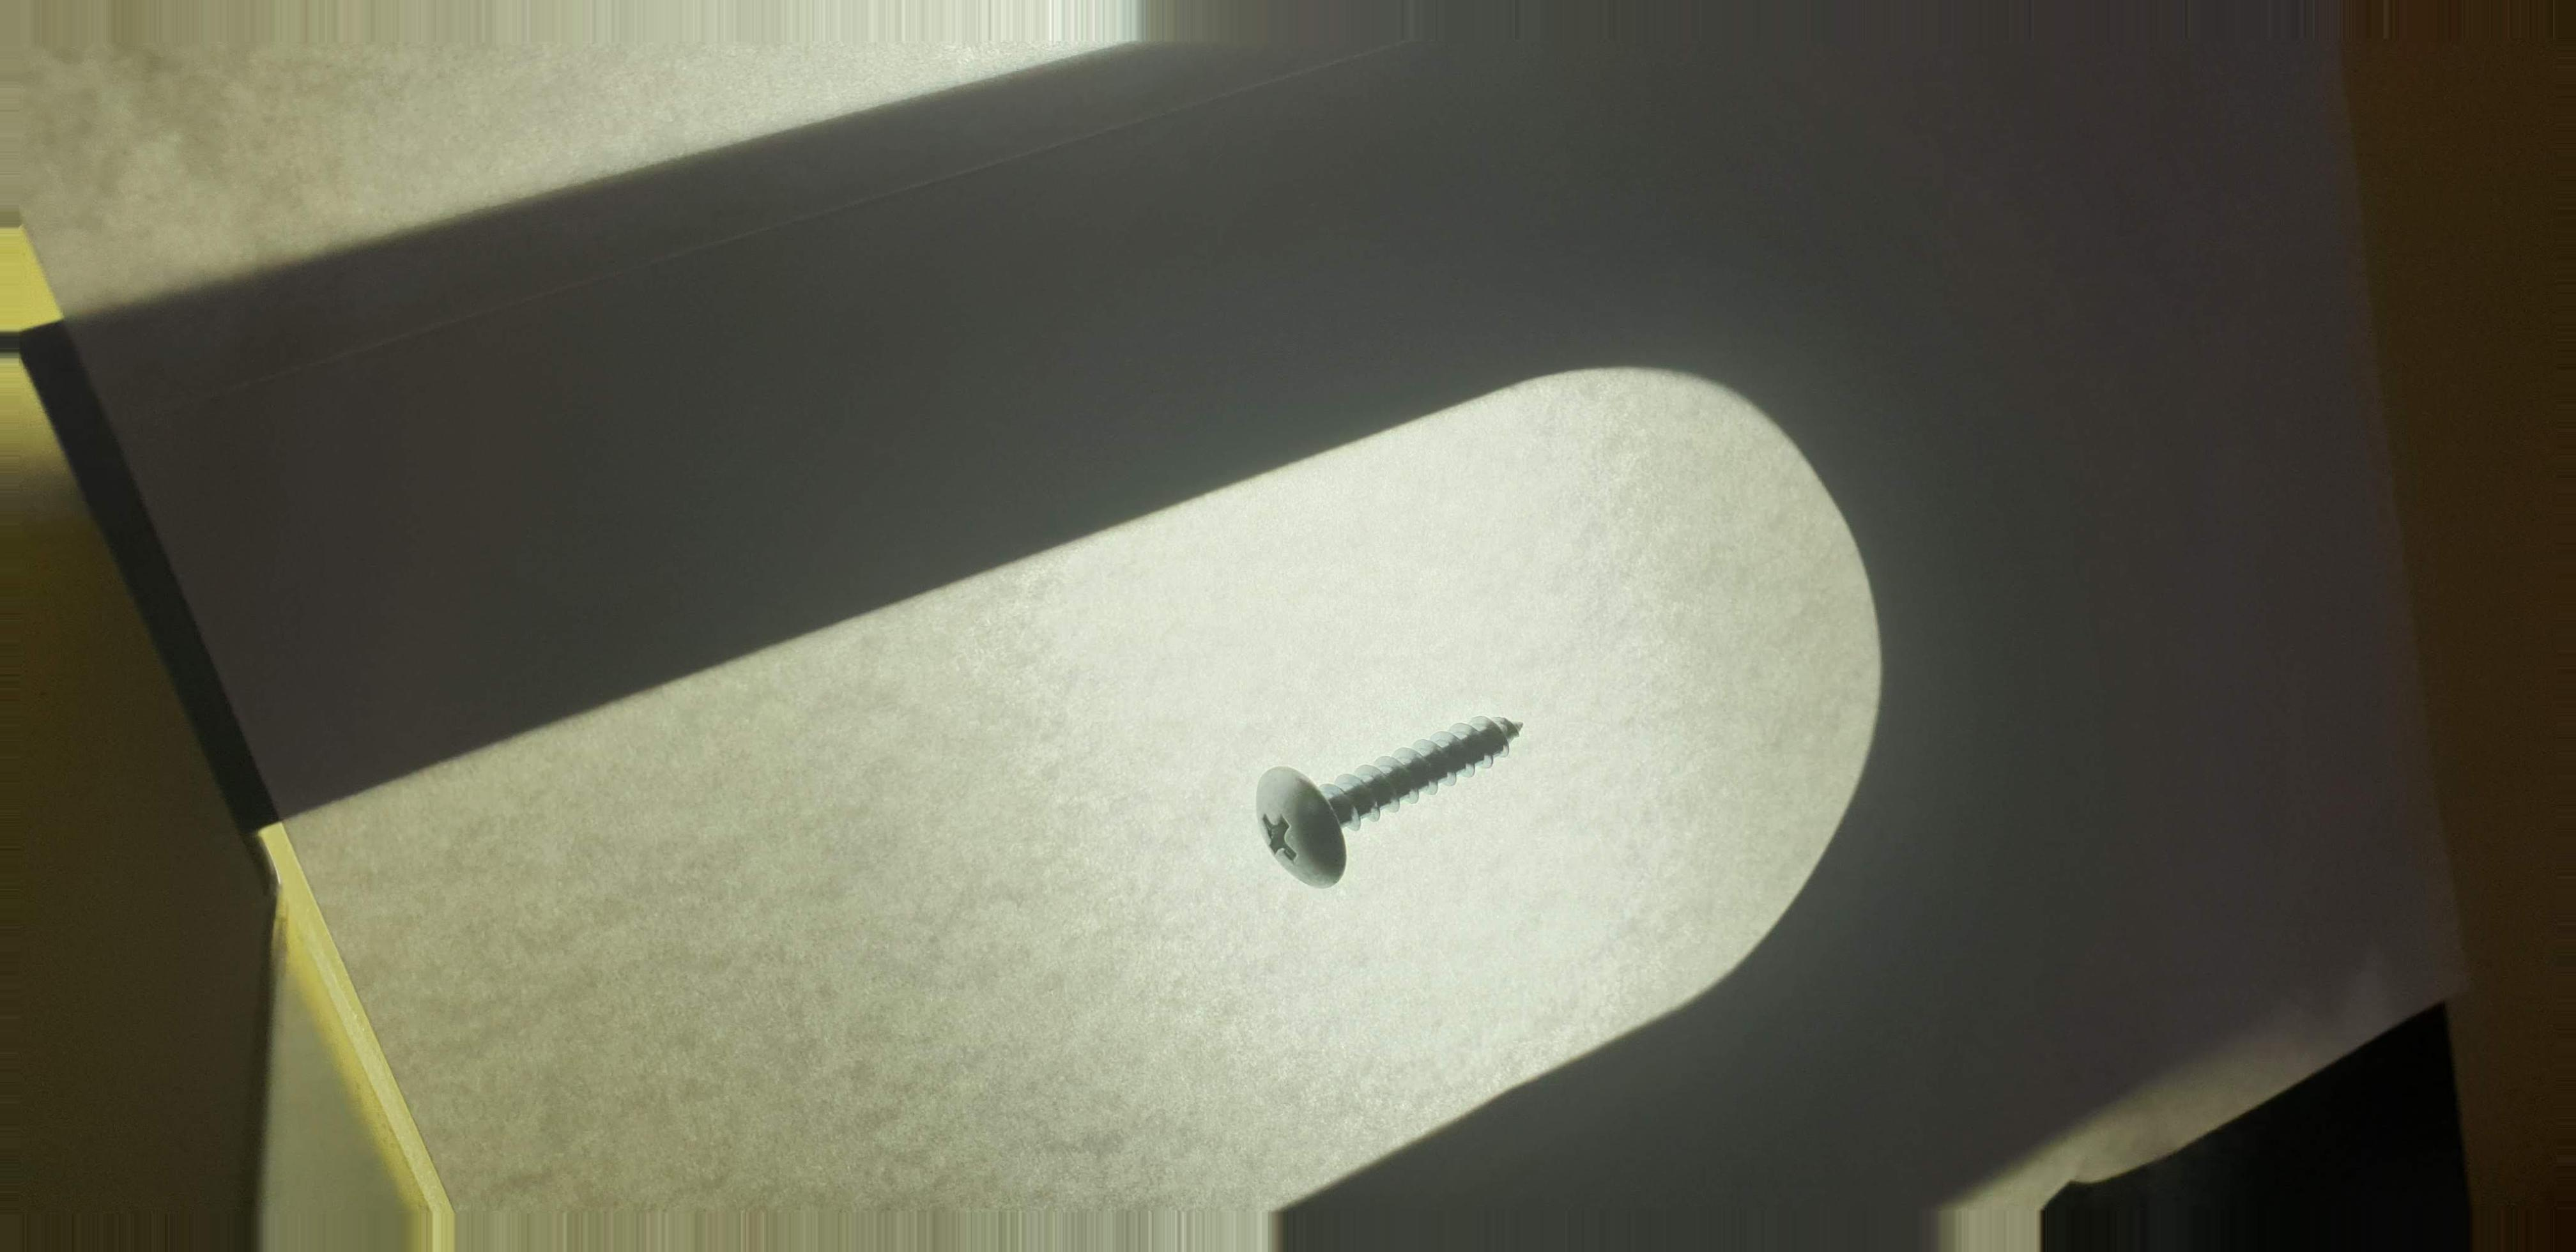S002: (1212, 688, 1585, 922)
